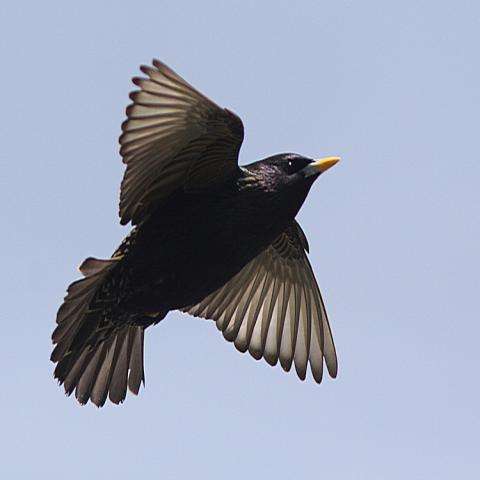bird: (48, 57, 343, 407)
